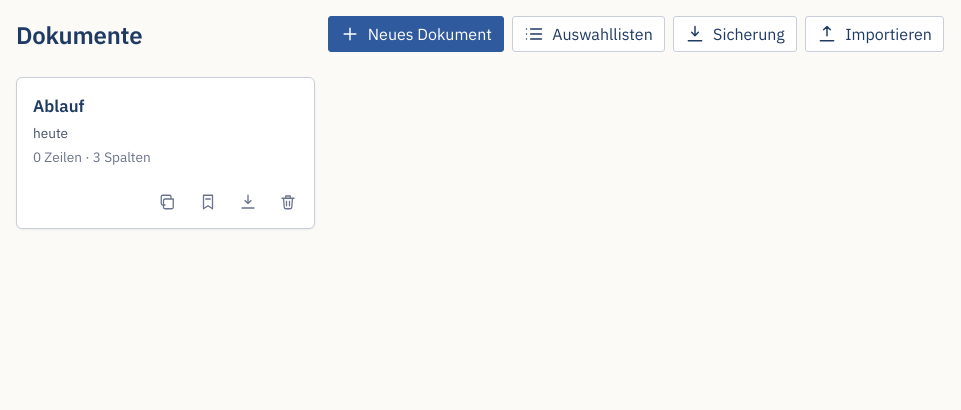
Test: start time › offers the stored times plus the custom entry, and nothing else to pick from
This screenshot has width=961, height=410.
Click the text "Ablauf".
click(59, 106)  # box [33,94,84,119]
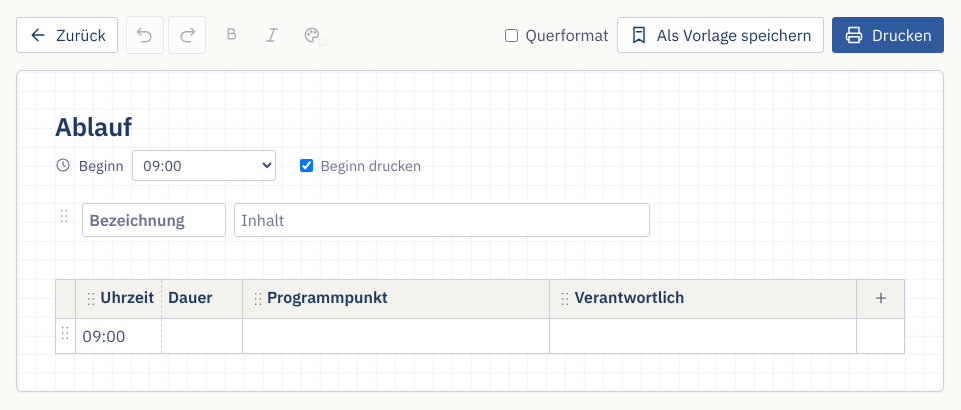
Expected: the dropdown labelled "Beginn" shows "09:00", [132,150,276,181]
Expected: the button labelled "liste" is gone
